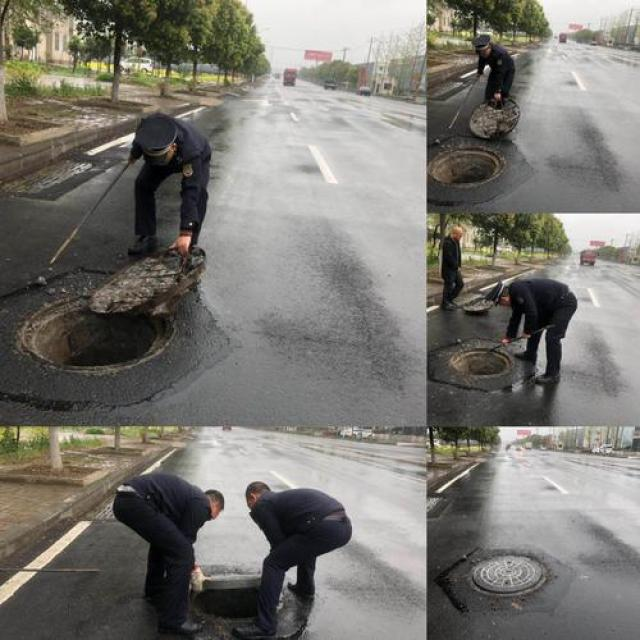manhole-cover: (22, 276, 183, 383), (183, 574, 300, 636), (428, 138, 518, 197), (440, 338, 524, 387)
